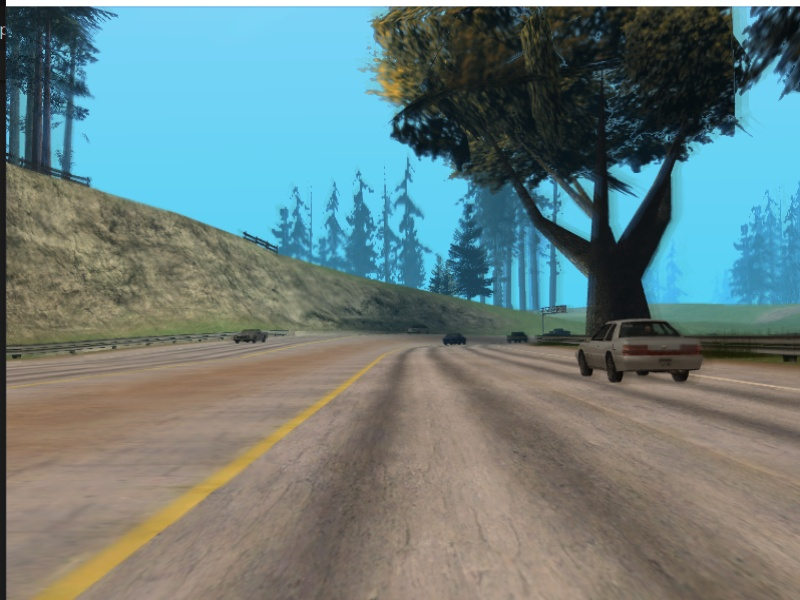vehicle: (574, 318, 708, 389), (234, 325, 271, 346), (501, 328, 536, 346), (444, 333, 469, 349), (409, 322, 431, 334)
